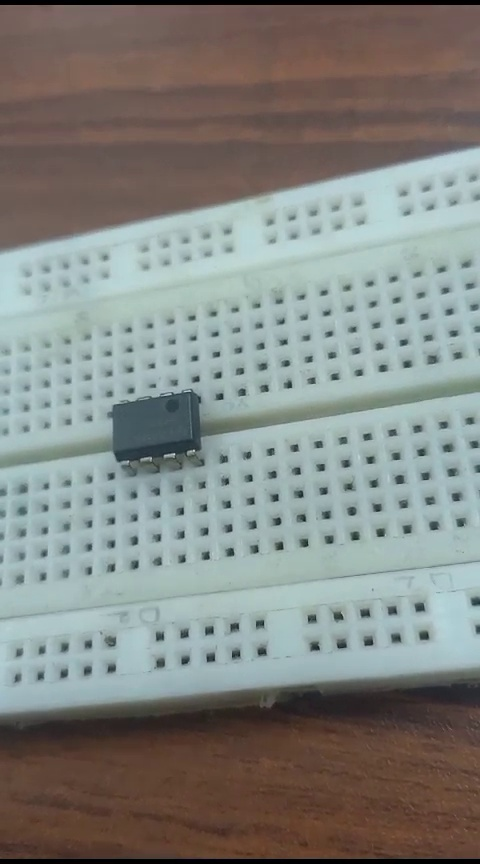IC: (92, 379, 215, 467)
